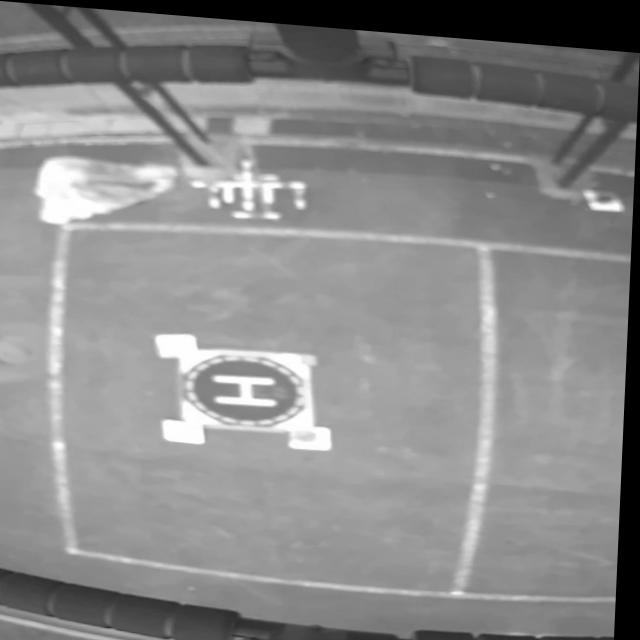Helipad: (217, 370, 280, 401)
